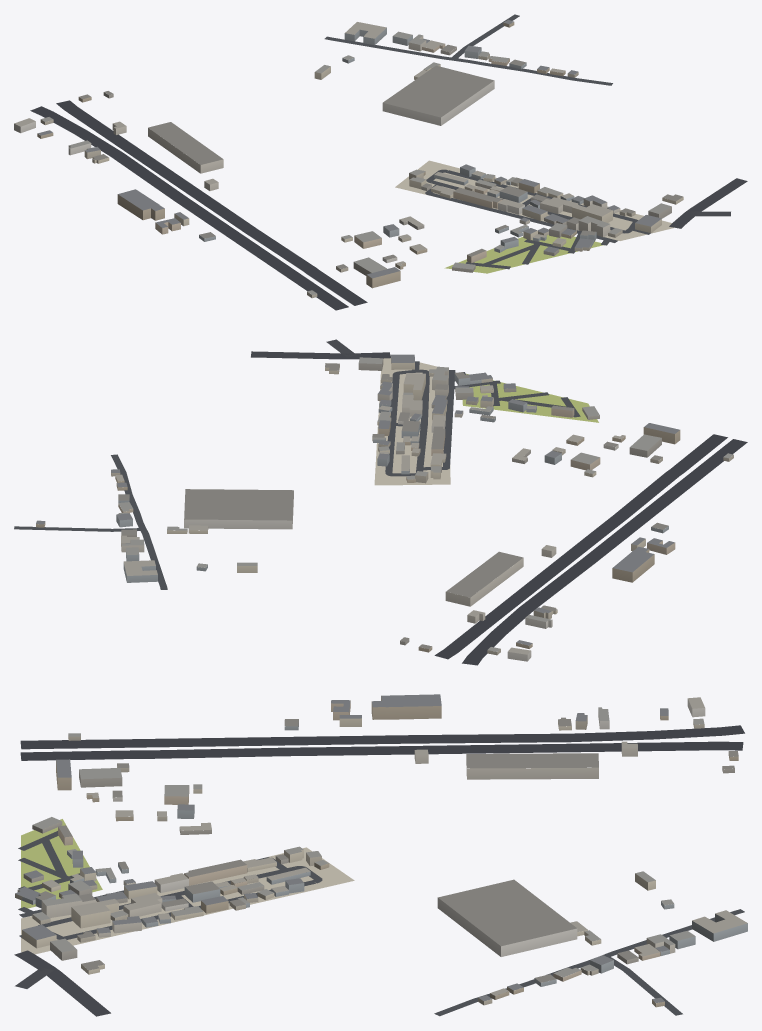
The picture shows the model from 3 angles, top to bottom: view 1: azimuth 30°, elevation 25°; view 2: azimuth 150°, elevation 25°; view 3: azimuth 270°, elevation 25°; orthographic projection. The views are drawn at different scales.
Parts seen in each view (by area): view 1: buildings_roofs, roads, buildings_walls, landuse; view 2: roads, buildings_roofs, buildings_walls, landuse; view 3: buildings_roofs, roads, buildings_walls, landuse.
Part boxes in pixels (bbox=[...]): buildings_roofs: bbox=[14, 19, 682, 294]; roads: bbox=[30, 14, 747, 310]; buildings_walls: bbox=[14, 22, 683, 298]; landuse: bbox=[395, 160, 673, 273]; roads: bbox=[14, 339, 747, 665]; buildings_roofs: bbox=[36, 354, 733, 654]; buildings_walls: bbox=[36, 357, 733, 661]; landuse: bbox=[374, 358, 598, 485]; buildings_roofs: bbox=[15, 694, 747, 1002]; roads: bbox=[14, 725, 744, 1016]; buildings_walls: bbox=[15, 696, 747, 1007]; landuse: bbox=[21, 819, 354, 954].
Size of the model in its own units: 510 by 9.6 by 508.
